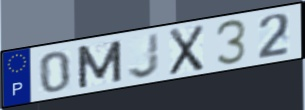0: (37, 49, 74, 94)
2: (257, 12, 293, 61)
3: (214, 18, 248, 67)
J: (126, 31, 161, 80)
M: (74, 38, 124, 91)
X: (168, 23, 206, 78)
